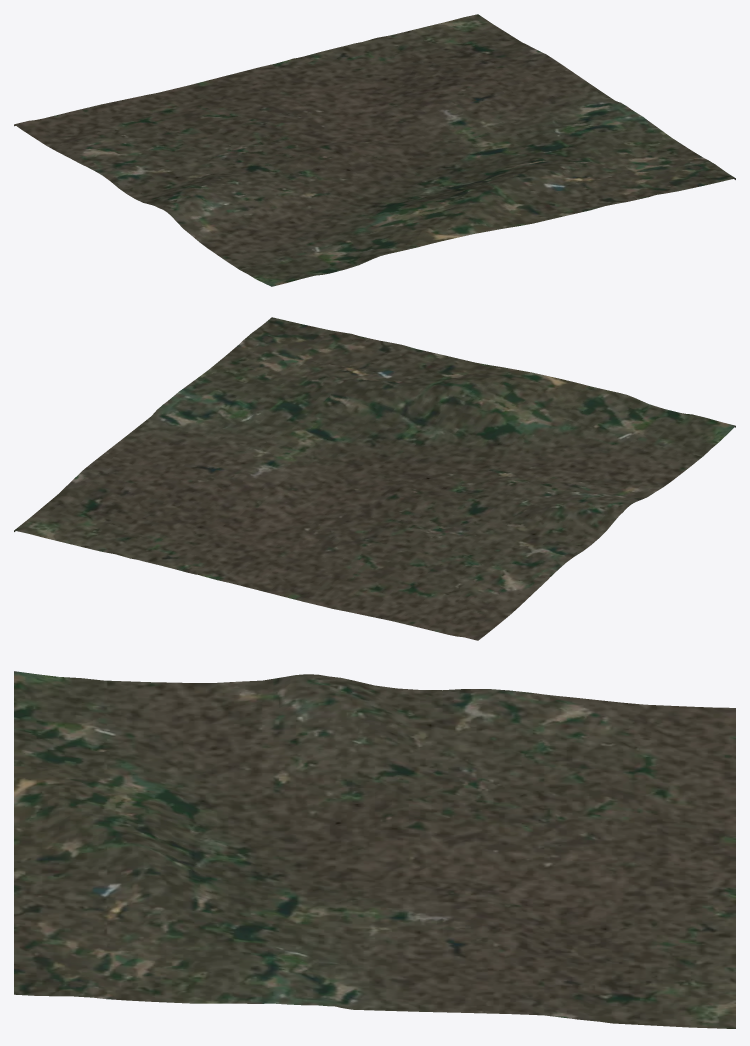
3 views of the same model, one above another, from view 1: azimuth 30°, elevation 25°; view 2: azimuth 150°, elevation 25°; view 3: azimuth 270°, elevation 25° (orthographic). The views are drawn at different scales.
Bounding box in the file's own units: 250 × 19.96 × 241.
Materials: 1 (1 with a texture image).
